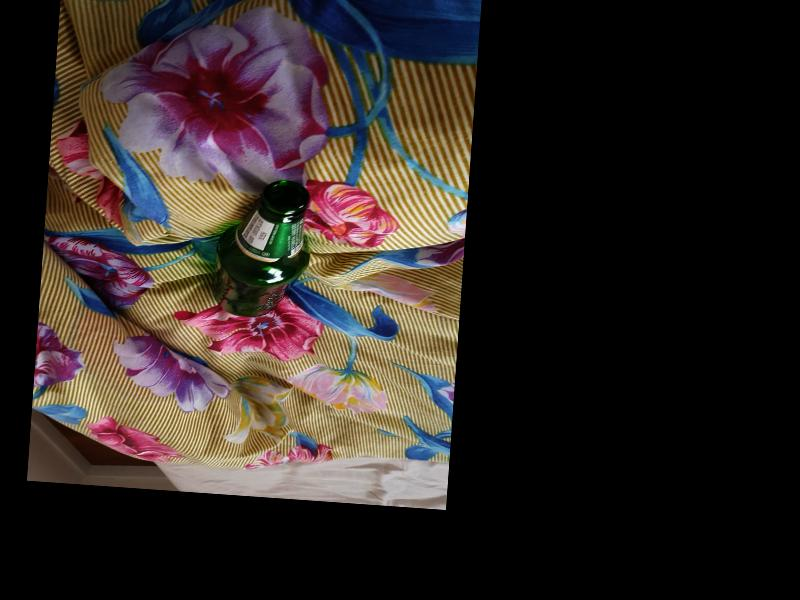Beer: (215, 176, 314, 320)
